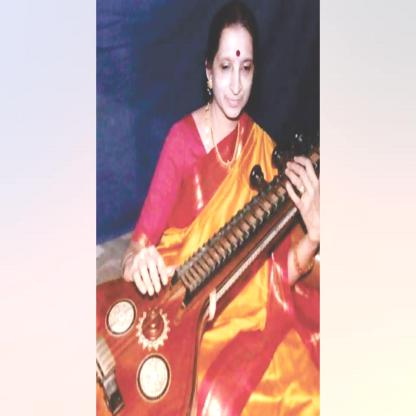Veena: (98, 223, 268, 416)
